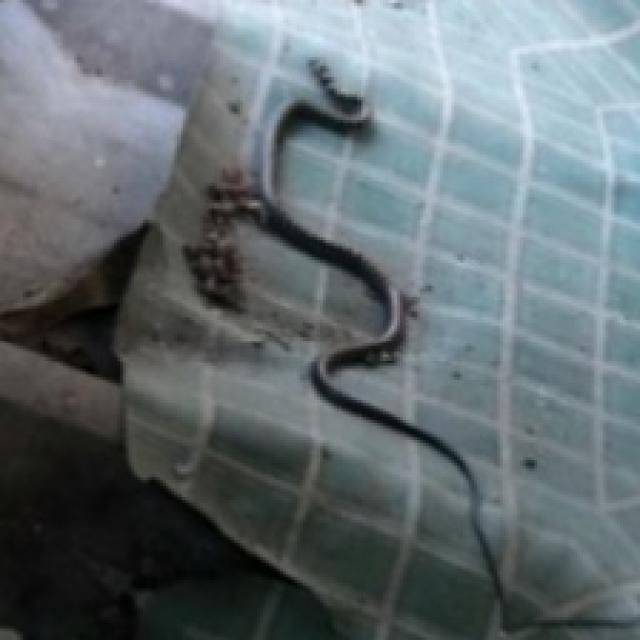paradise tree snake: (183, 60, 506, 637), (226, 214, 329, 320)
